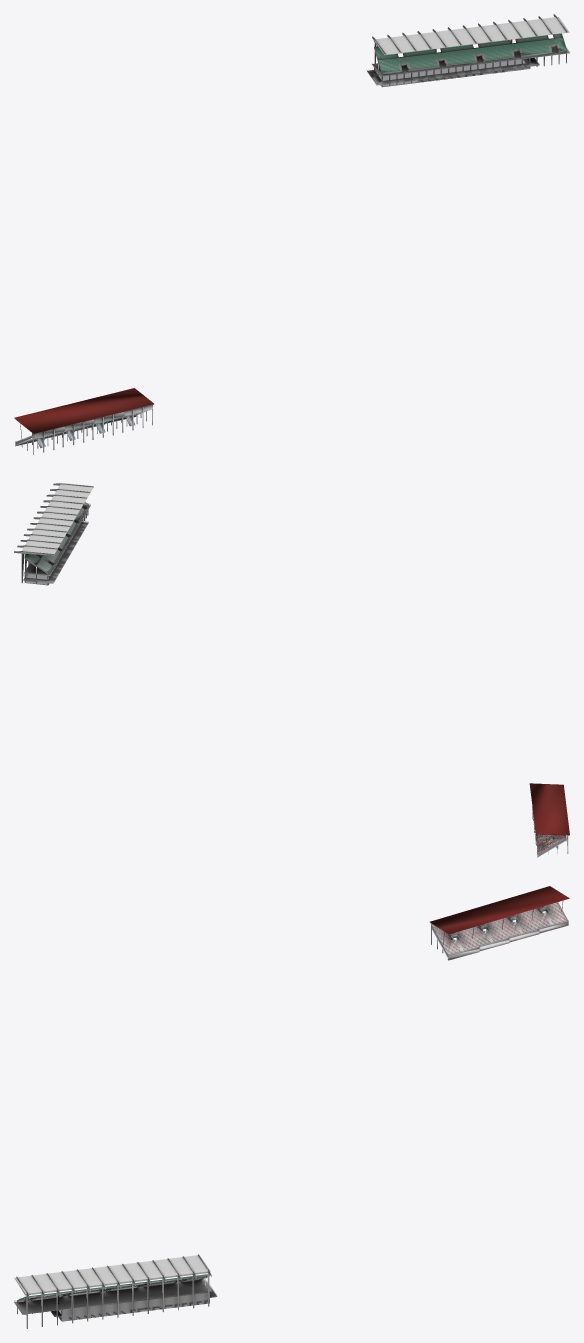
Rendered from grandstands.glb.
3 views of the same model, one above another, from view 1: azimuth 90°, elevation 25°; view 2: azimuth 150°, elevation 25°; view 3: azimuth 270°, elevation 25° (orthographic). The views are drawn at different scales.
Visible parts, largest first — view 1: spa_2022.111, spa_2022.114, spa_2022.115; view 2: spa_2022.111, spa_2022.114, spa_2022.115; view 3: spa_2022.111, spa_2022.114, spa_2022.113.
Part boxes in pixels (x1,y1,x2,y2): spa_2022.111: (367, 14, 569, 87); spa_2022.114: (14, 388, 153, 454); spa_2022.115: (367, 33, 569, 84); spa_2022.111: (14, 483, 93, 585); spa_2022.114: (529, 783, 569, 857); spa_2022.115: (23, 502, 90, 583); spa_2022.111: (14, 1254, 216, 1328); spa_2022.114: (430, 886, 569, 960); spa_2022.113: (432, 902, 568, 960).
Size of the model in its own units: 612 by 25.25 by 346.
6 materials, 6 textured.
